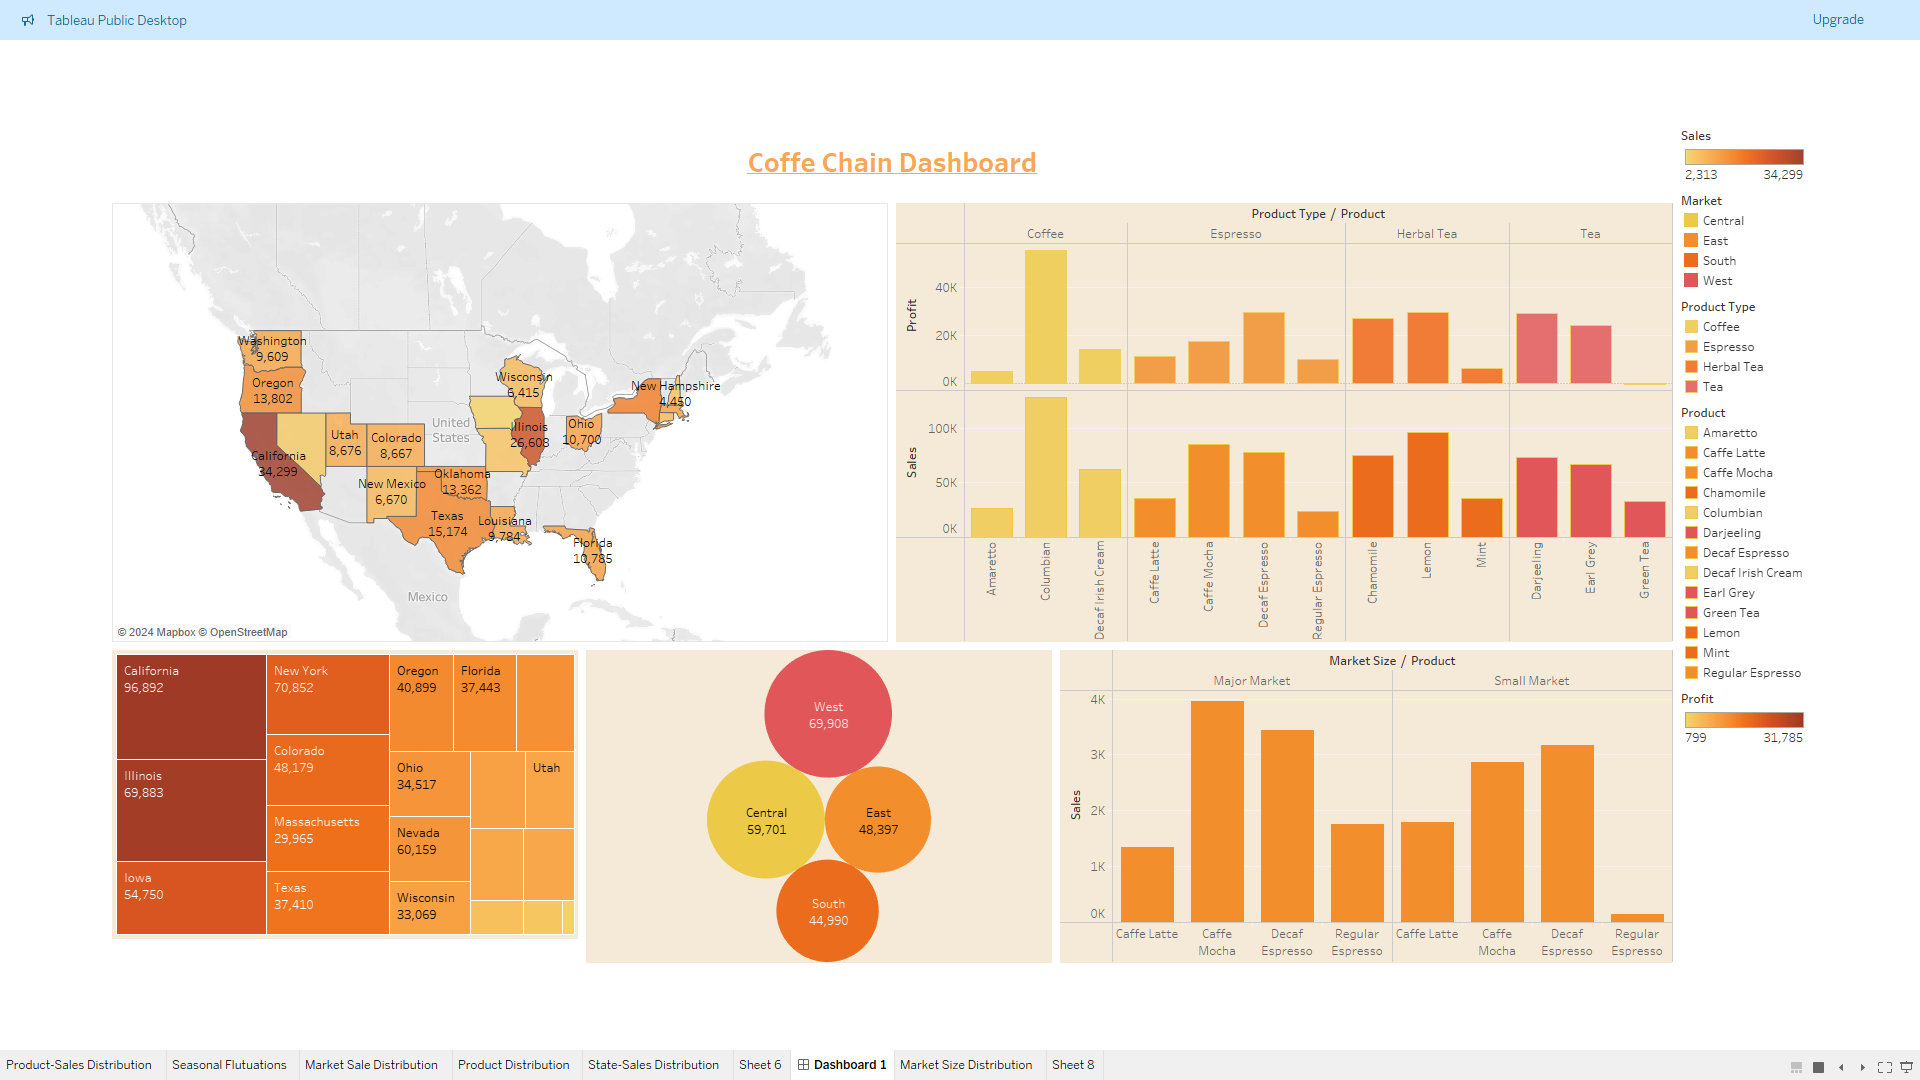

What the dashboard file says about the page in this screenshot:
{"tool":"tableau","page":{"name":"Dashboard 1","canvas":[1000,1000],"units":"permille","ordinal":0},"visuals":[{"type":"text","box":[4.7,9.3,912.2,88.4]},{"type":"legend","title":"State-Sales Distribution","param":"[federated.1lxhtko1cibiyk12hz2ox0kqabic].[sum:Sales:qk]","box":[916.9,9.3,78.5,75.6]},{"type":"legend","title":"Market Sale Distribution","param":"[federated.1lxhtko1cibiyk12hz2ox0kqabic].[none:Market:nk]","box":[916.9,84.9,78.5,123.2]},{"type":"worksheet","title":"State-Sales Distribution","mark":"Automatic","box":[4.7,97.7,456.1,519.8]},{"type":"worksheet","title":"Product Distribution","mark":"Automatic","rows":["Profit","Sales"],"cols":["Product Type","Product"],"box":[460.8,97.7,456.1,519.8]},{"type":"legend","title":"Product Distribution","param":"[federated.1lxhtko1cibiyk12hz2ox0kqabic].[none:Product Type:nk]","box":[916.9,208.1,78.5,123.2]},{"type":"legend","title":"Product Distribution","param":"[federated.1lxhtko1cibiyk12hz2ox0kqabic].[none:Product:nk]","box":[916.9,331.4,78.5,332.6]},{"type":"worksheet","title":"Sheet 8","mark":"Automatic","box":[4.7,617.4,275.6,373.3]},{"type":"worksheet","title":"Market Sale Distribution","mark":"Circle","box":[280.2,617.4,275.6,373.3]},{"type":"worksheet","title":"Market Size Distribution","mark":"Automatic","rows":["Sales"],"cols":["Market Size","Product"],"box":[555.8,617.4,361.1,373.3]},{"type":"legend","title":"Sheet 8","param":"[federated.1lxhtko1cibiyk12hz2ox0kqabic].[sum:Profit:qk]","box":[916.9,663.9,78.5,75.6]}]}

Visuals, with their boxes on the dashboard's canvas, which has no fixed pixel size, in thousandths of its width and height (x1, y1, x2, y2). These are canvas units, not pixel positions in the 1920x1080 screenshot, which may show the page scaled, cropped or inside an application window:
text: x1=5, y1=9, x2=917, y2=98
"State-Sales Distribution" legend: x1=917, y1=9, x2=995, y2=85
"Market Sale Distribution" legend: x1=917, y1=85, x2=995, y2=208
"State-Sales Distribution" worksheet: x1=5, y1=98, x2=461, y2=618
"Product Distribution" worksheet: x1=461, y1=98, x2=917, y2=618
"Product Distribution" legend: x1=917, y1=208, x2=995, y2=331
"Product Distribution" legend: x1=917, y1=331, x2=995, y2=664
"Sheet 8" worksheet: x1=5, y1=617, x2=280, y2=991
"Market Sale Distribution" worksheet (Circle marks): x1=280, y1=617, x2=556, y2=991
"Market Size Distribution" worksheet: x1=556, y1=617, x2=917, y2=991
"Sheet 8" legend: x1=917, y1=664, x2=995, y2=740
